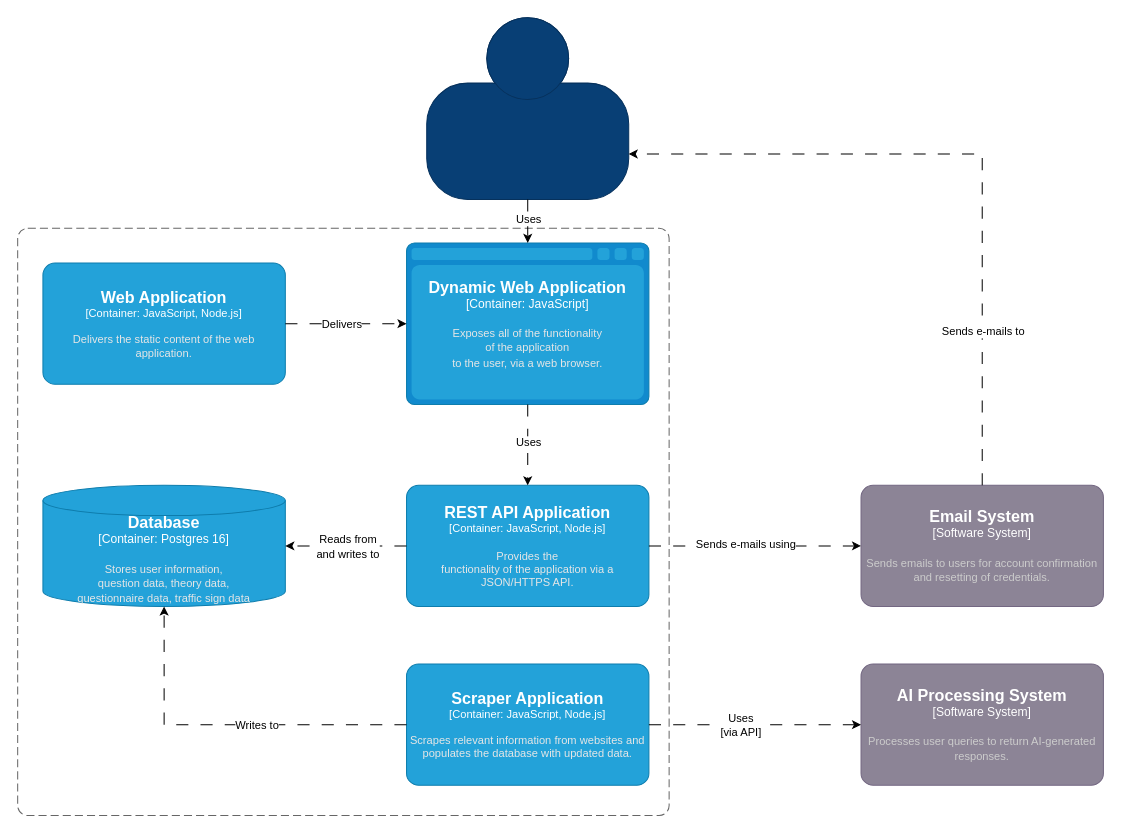
The diagram is 1121 pixels wide and 833 high, and some of its shapes have lost their labels. Here are the shapes that lost their labels. From the top down, the box of each, then its label:
(426, 17, 629, 199): User [Person] Website user
(17, 227, 669, 816): RoT System [Software System]
